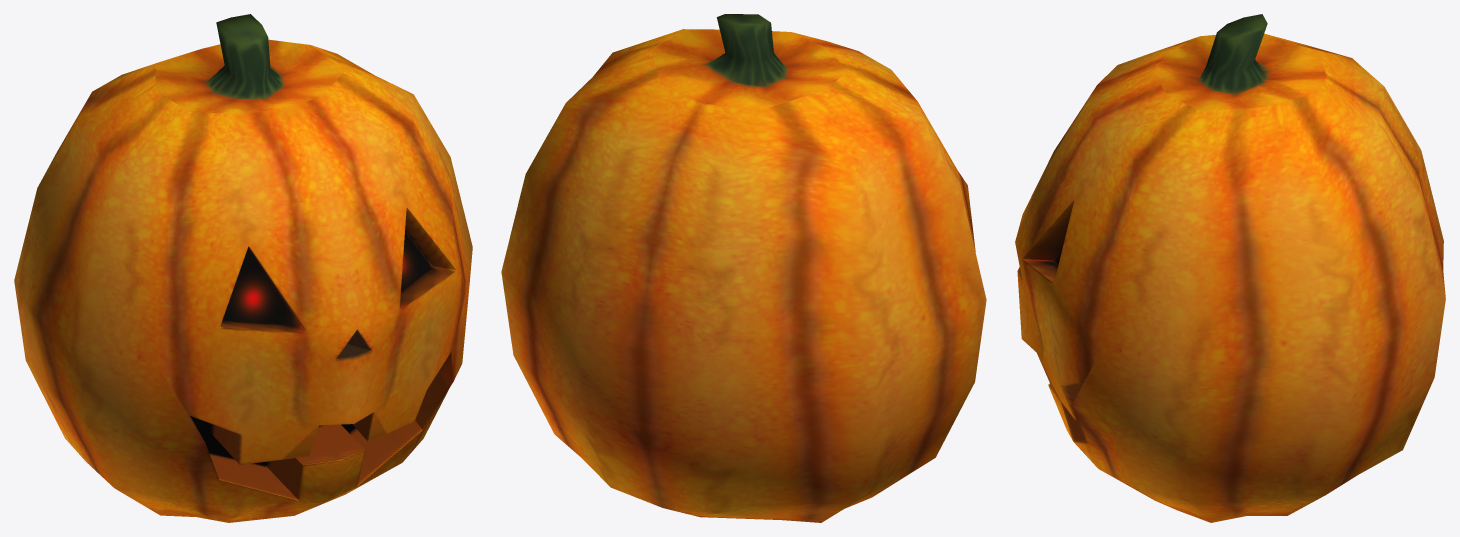
File: pumpkin2.obj
3 views of the same model, side by side, from view 1: azimuth 30°, elevation 25°; view 2: azimuth 150°, elevation 25°; view 3: azimuth 270°, elevation 25° (orthographic). The views are drawn at different scales.
Visible parts, largest first — view 1: pumpkin2; view 2: pumpkin2; view 3: pumpkin2.
Part boxes in pixels (x1=…): pumpkin2: x1=14, y1=14, x2=472, y2=522; pumpkin2: x1=501, y1=14, x2=986, y2=522; pumpkin2: x1=1015, y1=14, x2=1445, y2=522.
Size of the model in its own units: 20.42 by 22.79 by 19.2.
1 material, 1 textured.
